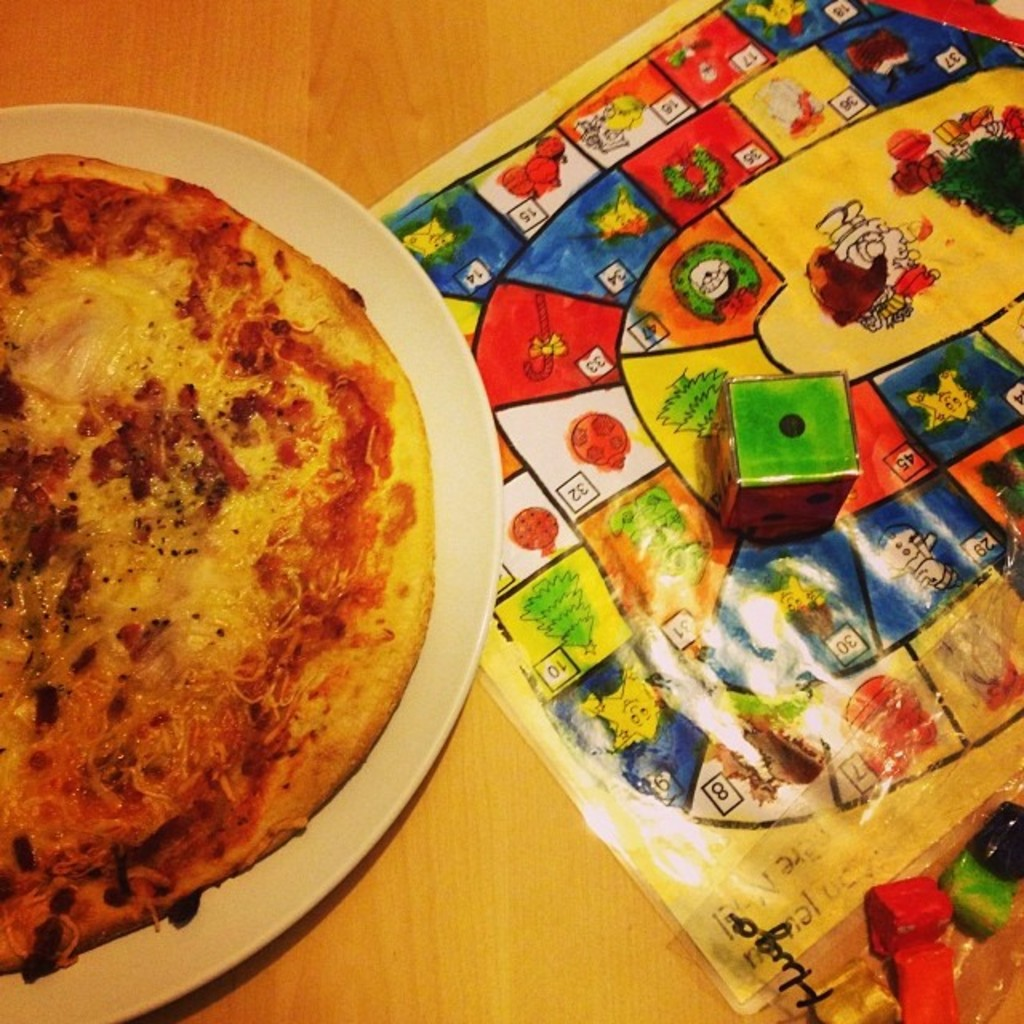Pizza: (0, 156, 440, 979)
